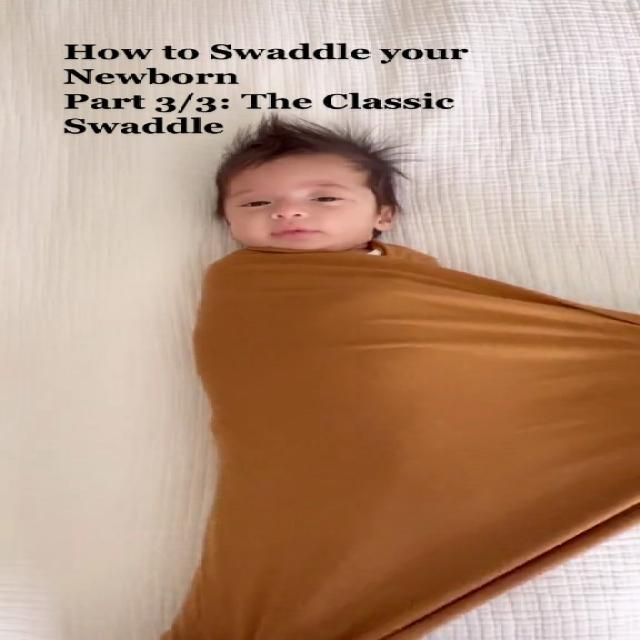baby: (206, 127, 492, 640)
